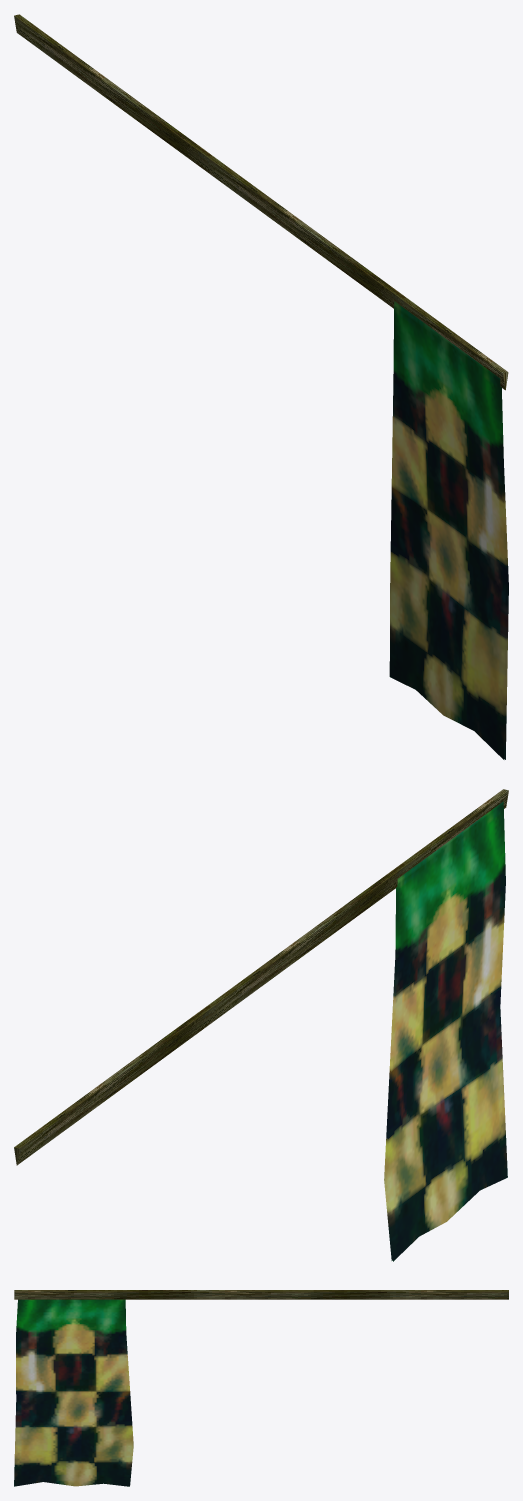
3 renders of one model, top to bottom at view 1: azimuth 30°, elevation 25°; view 2: azimuth 150°, elevation 25°; view 3: azimuth 270°, elevation 25°, orthographic. The views are drawn at different scales.
Visible parts, largest first — view 1: TN2_F3; view 2: TN2_F3; view 3: TN2_F3.
Part boxes in pixels (bbox=[...]): TN2_F3: bbox=[14, 14, 508, 759]; TN2_F3: bbox=[14, 789, 508, 1261]; TN2_F3: bbox=[14, 1290, 508, 1486].
Size of the model in its own units: 0.0354 by 1.41 by 3.23.
Materials: 2 (2 with a texture image).
